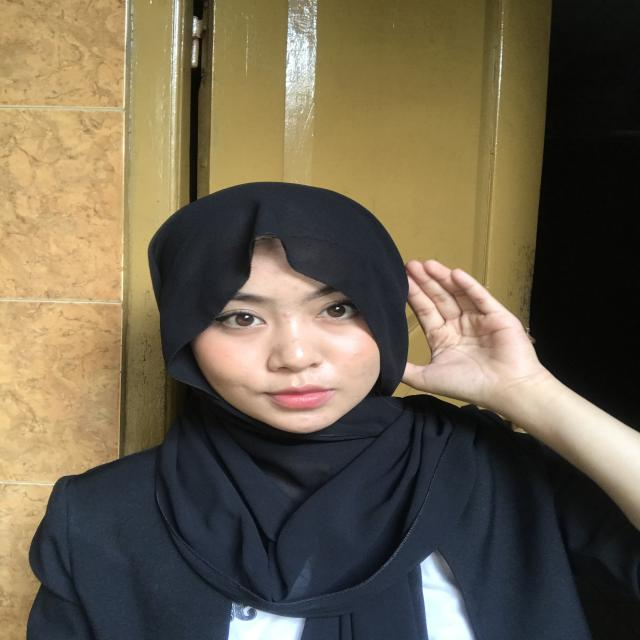mendengar: (350, 245, 571, 437)
